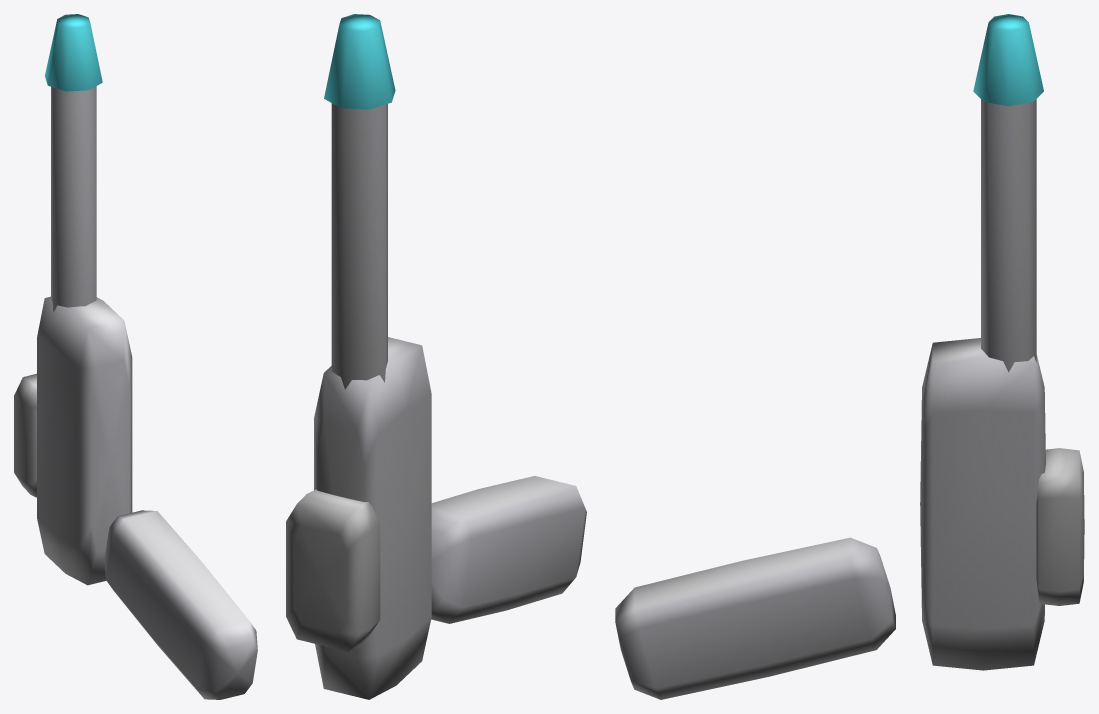
File: pistolet-laser.glb
The picture shows the model from 3 angles, left to right: view 1: azimuth 30°, elevation 25°; view 2: azimuth 150°, elevation 25°; view 3: azimuth 270°, elevation 25°; orthographic projection. The views are drawn at different scales.
Parts seen in each view (by area): view 1: pistolet-laser; view 2: pistolet-laser; view 3: pistolet-laser.
Part boxes in pixels (x1,y1,x2,y2): pistolet-laser: [14, 14, 257, 699]; pistolet-laser: [286, 14, 586, 699]; pistolet-laser: [615, 14, 1084, 699].
Size of the model in its own units: 0.0329 by 0.2912 by 0.1854.
Materials: 1 (1 with a texture image).
